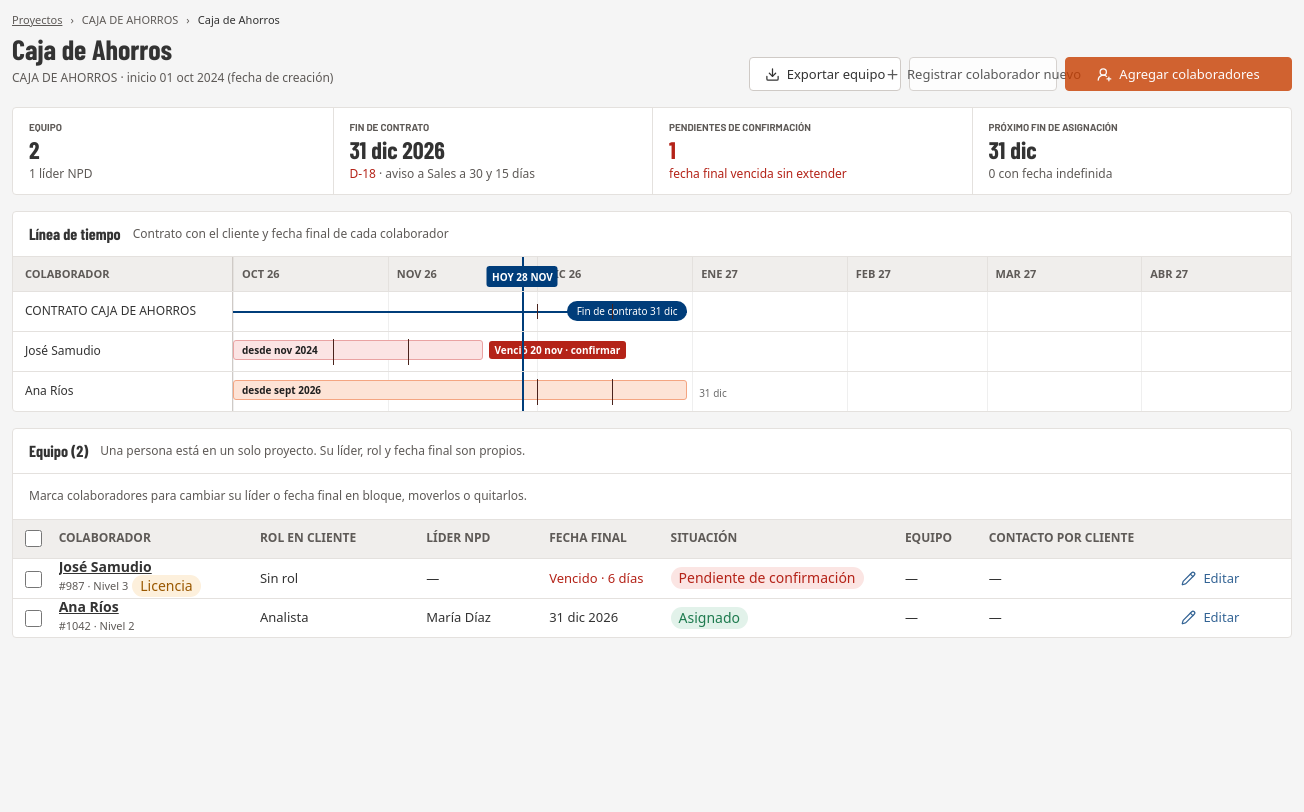
Test: ProjectDetailPage › toggles row selection and keeps the batch action disabled
Click the checkbox named "Seleccionar a Ana Ríos" at (34, 618), box [25,610,42,627]
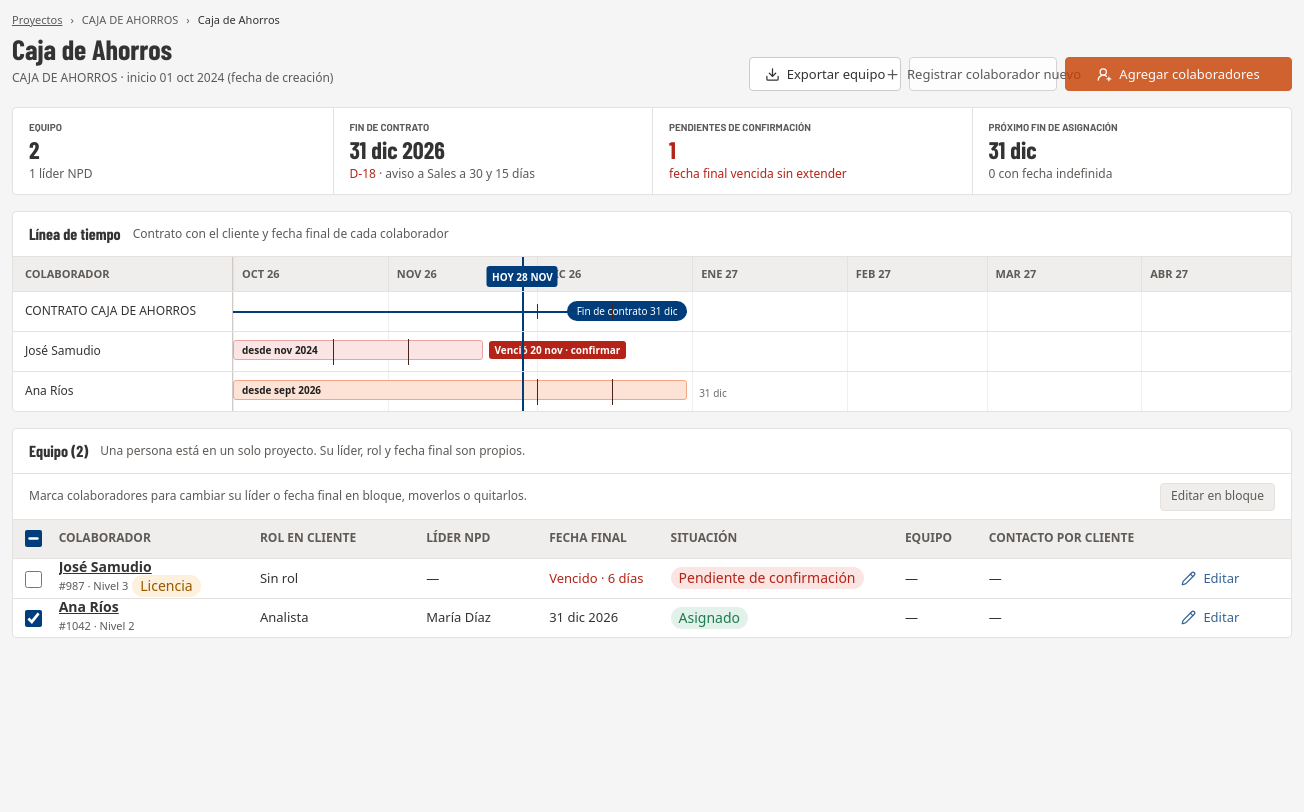
expect the button "Editar en bloque" is disabled: met, box [1160,482,1275,510]
Click the checkbox named "Seleccionar todos los colaboradores" at (34, 539), box [25,530,42,547]
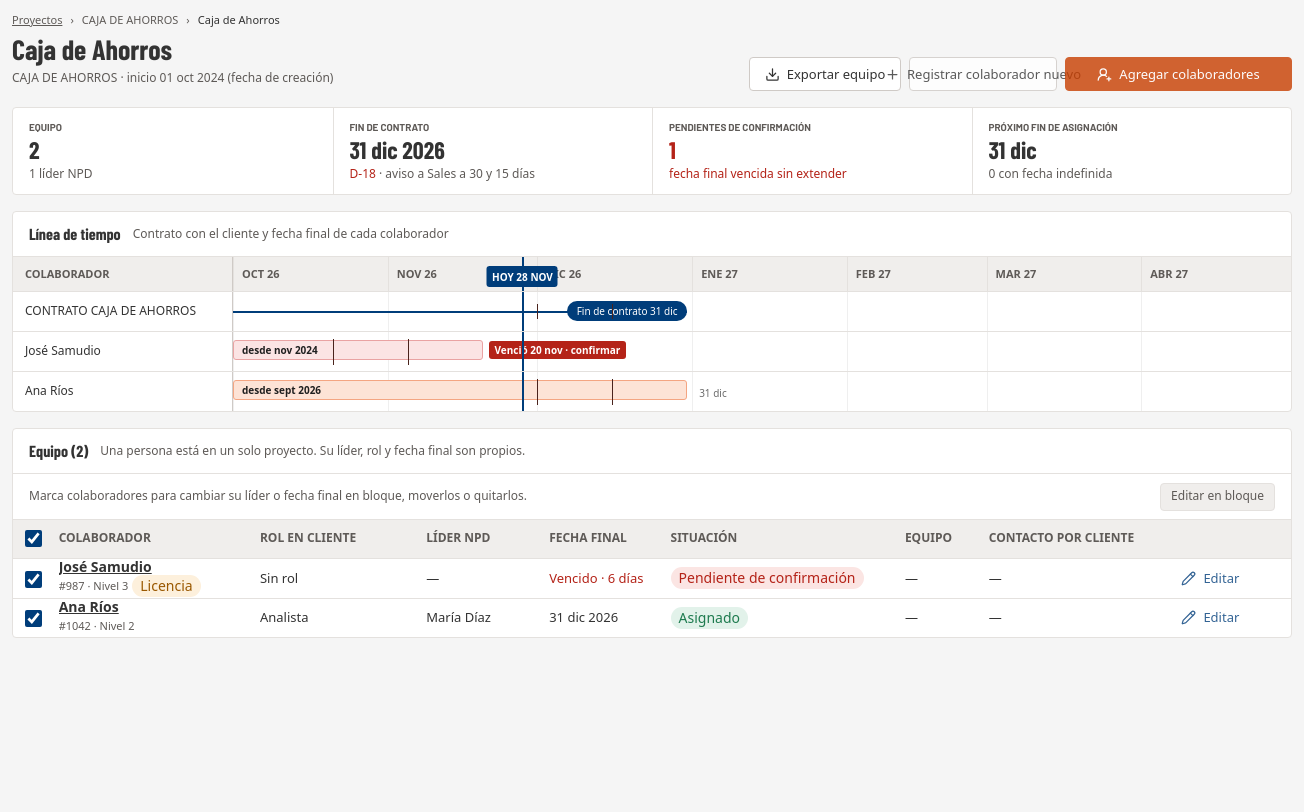
expect the checkbox named "Seleccionar todos los colaboradores" is checked: met, box [25,530,42,547]
expect the button "Editar en bloque" is disabled: met, box [1160,482,1275,510]
expect the checkbox named "Seleccionar a José Samudio" is checked: met, box [25,570,42,588]
